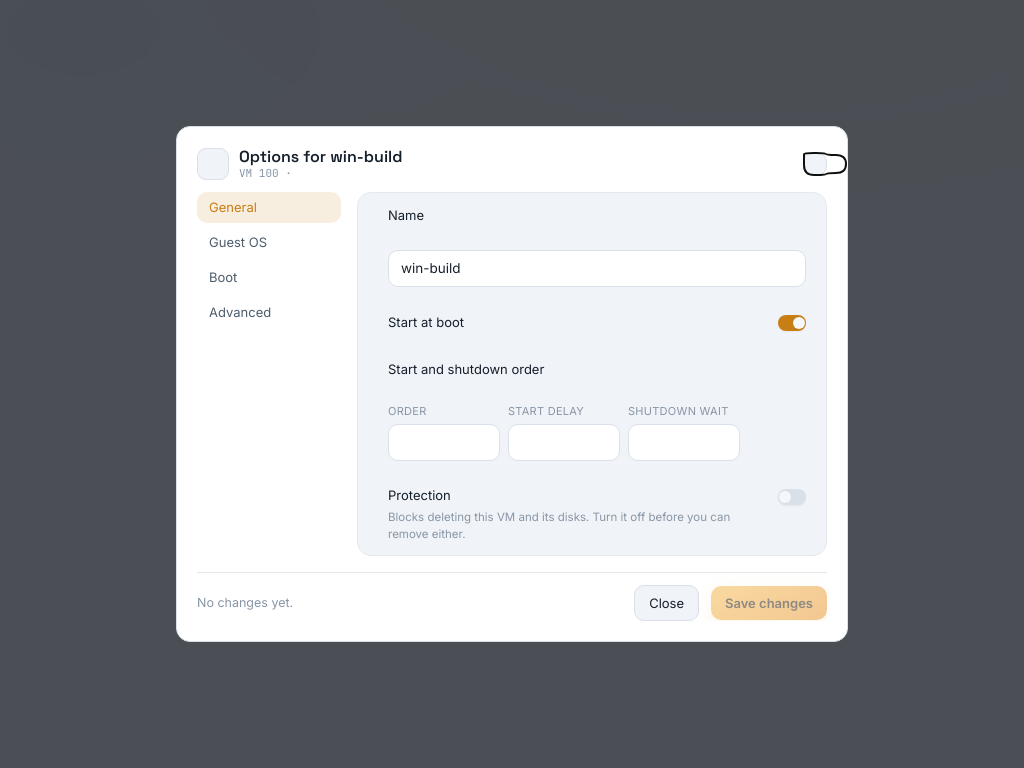
Test: VmOptionsDialog › sends nothing for a switch nobody touched
Expected: the field labelled "Name" is shown, left=388, top=250, right=806, bottom=287
Expected: the button "Save changes" is disabled, left=711, top=586, right=827, bottom=620
Click the button "Advanced" at (269, 312), box left=197, top=297, right=341, bottom=328
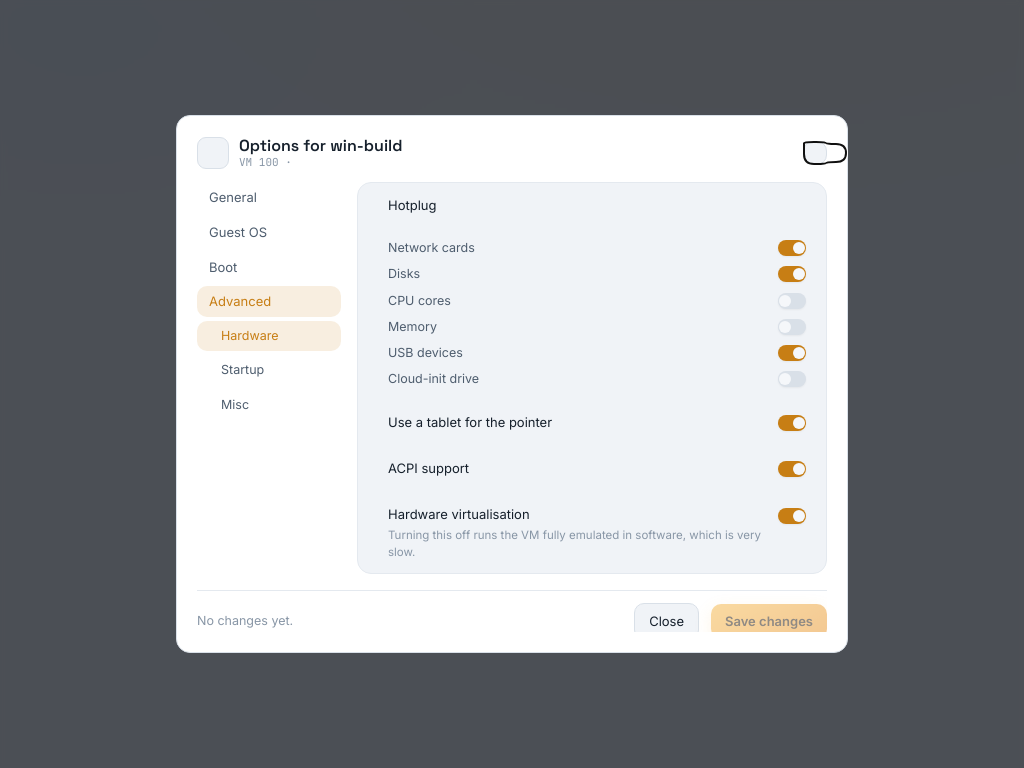
Expected: the button "Save changes" is disabled, left=711, top=604, right=827, bottom=632
Now the switch named "ACPI support" in the row of "ACPI support" is checked, box left=778, top=461, right=806, bottom=477
